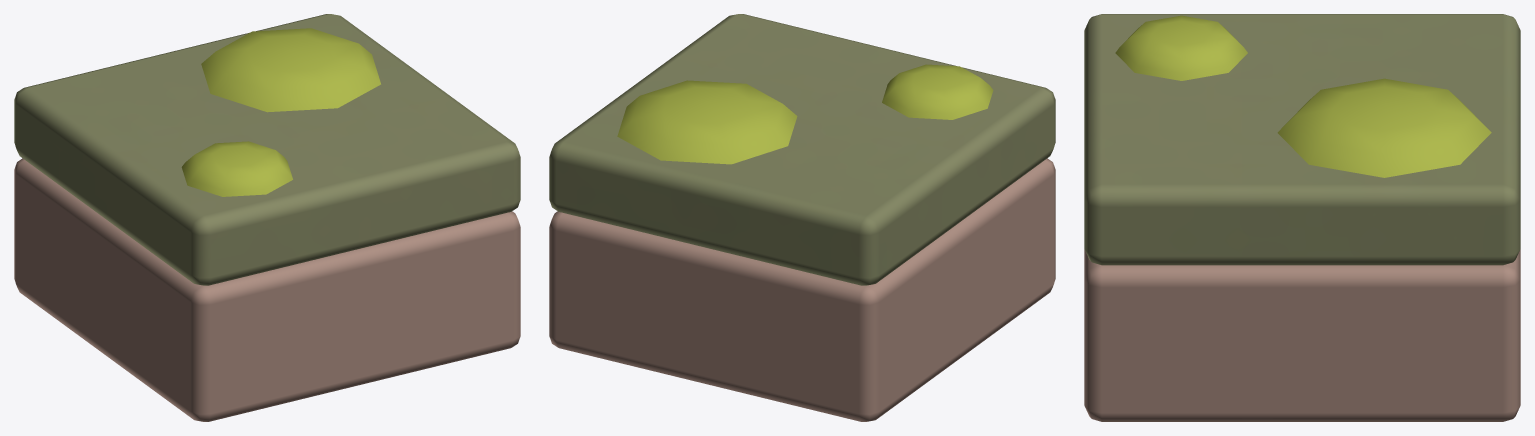
The model's file is cube_with_swamp.02.glb.
The picture shows the model from 3 angles, left to right: view 1: azimuth 30°, elevation 25°; view 2: azimuth 150°, elevation 25°; view 3: azimuth 270°, elevation 25°; orthographic projection. The views are drawn at different scales.
Visible parts, largest first — view 1: Cube.242; view 2: Cube.242; view 3: Cube.242.
Boxes of the visible parts, x1,y1,x2,y2 form: Cube.242: [14, 14, 520, 421]; Cube.242: [549, 14, 1055, 421]; Cube.242: [1084, 14, 1520, 421].
Bounding box in the file's own units: 1 × 0.6712 × 1.
Materials: 1 (1 with a texture image).
